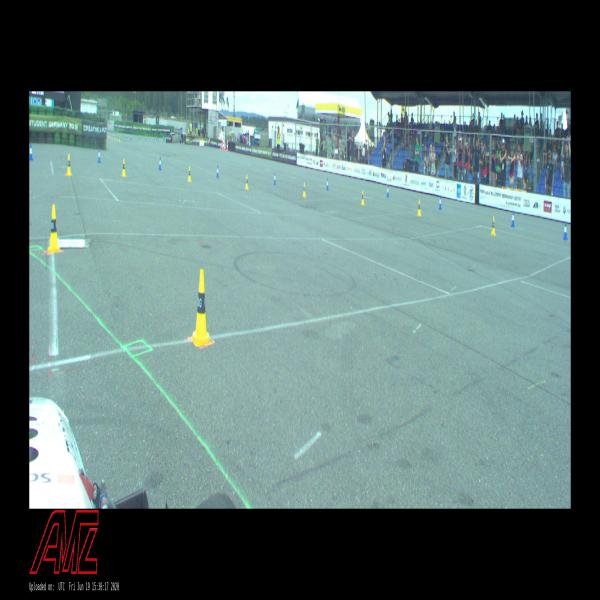blue_cone: (562, 222, 568, 240), (510, 211, 514, 227), (29, 144, 33, 160), (97, 149, 101, 163), (438, 196, 442, 210), (216, 165, 219, 178), (273, 172, 276, 185), (386, 185, 389, 197), (159, 157, 161, 169), (326, 179, 328, 190)
yellow_cone: (191, 270, 211, 344), (47, 204, 60, 254), (490, 216, 496, 235), (66, 154, 71, 175), (122, 159, 126, 176), (417, 199, 421, 216), (188, 166, 192, 182), (360, 190, 364, 205), (302, 183, 306, 197), (245, 175, 248, 190), (119, 136, 120, 142), (117, 136, 118, 141), (114, 136, 115, 140), (112, 136, 112, 140)
